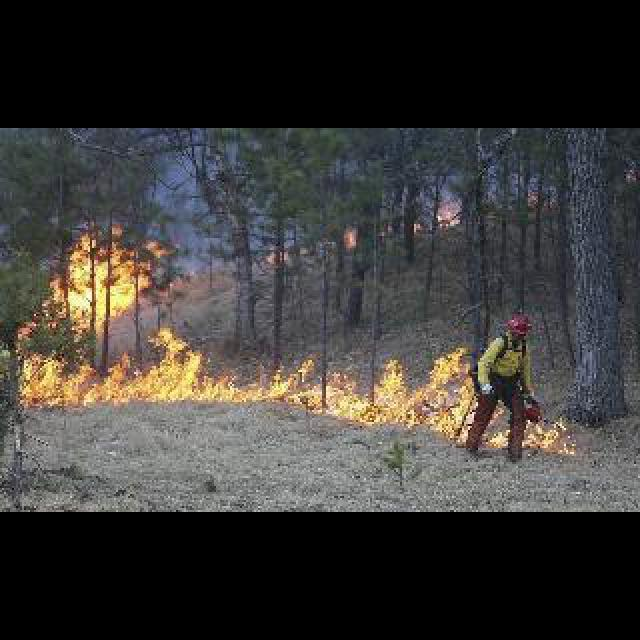Fire: (10, 212, 202, 406), (208, 326, 466, 458), (523, 412, 581, 464), (410, 204, 460, 230), (266, 248, 288, 268), (342, 226, 360, 250)
